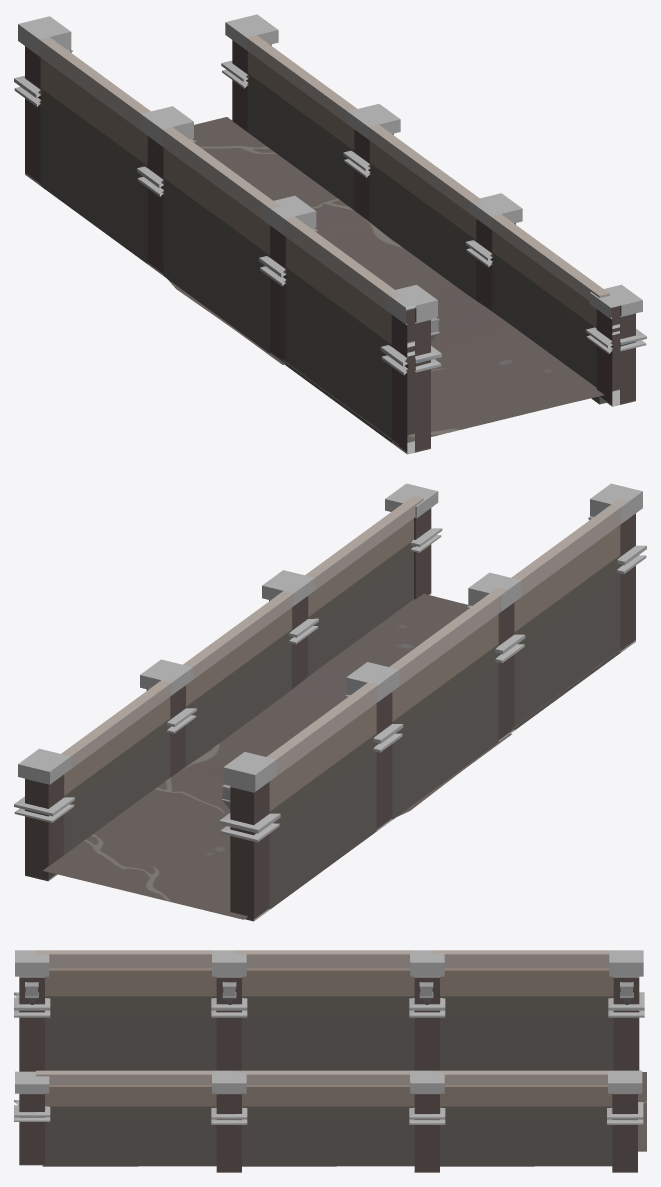
The model's file is Puente.fbx.
The picture shows the model from 3 angles, top to bottom: view 1: azimuth 30°, elevation 25°; view 2: azimuth 150°, elevation 25°; view 3: azimuth 270°, elevation 25°; orthographic projection. The views are drawn at different scales.
Visible parts, largest first — view 1: polySurface22, polySurface17; view 2: polySurface22, polySurface17; view 3: polySurface22, polySurface34, polySurface17.
Boxes of the visible parts, left/top/right/bottom form: polySurface22: left=14, top=14, right=646, bottom=454; polySurface17: left=167, top=117, right=604, bottom=444; polySurface22: left=14, top=483, right=646, bottom=921; polySurface17: left=42, top=593, right=627, bottom=919; polySurface22: left=14, top=950, right=644, bottom=1172; polySurface34: left=25, top=982, right=633, bottom=1004; polySurface17: left=638, top=1072, right=646, bottom=1151.
Size of the model in its own units: 7.38 by 4.61 by 20.34.
